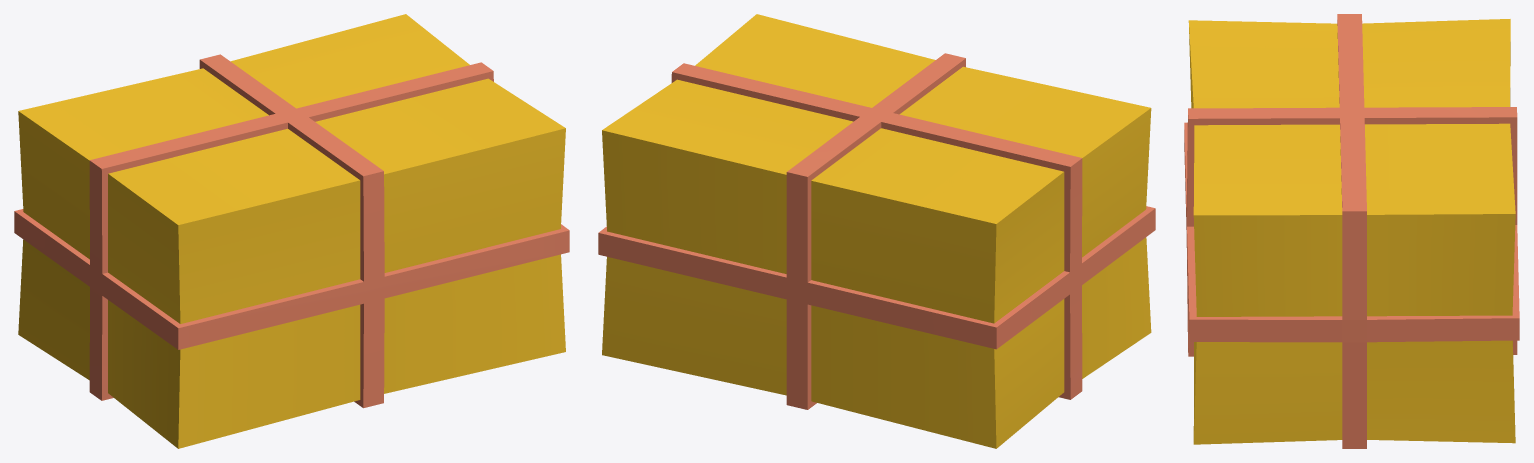
The model's file is Wheat_Cube.fbx.
3 renders of one model, left to right at view 1: azimuth 30°, elevation 25°; view 2: azimuth 150°, elevation 25°; view 3: azimuth 270°, elevation 25°, orthographic. The views are drawn at different scales.
Visible parts, largest first — view 1: polySurface178; view 2: polySurface178; view 3: polySurface178.
Boxes of the visible parts, left/top/right/bottom form: polySurface178: left=14, top=14, right=569, bottom=448; polySurface178: left=598, top=14, right=1155, bottom=448; polySurface178: left=1184, top=14, right=1519, bottom=448.
Size of the model in its own units: 658 by 367 by 469.
